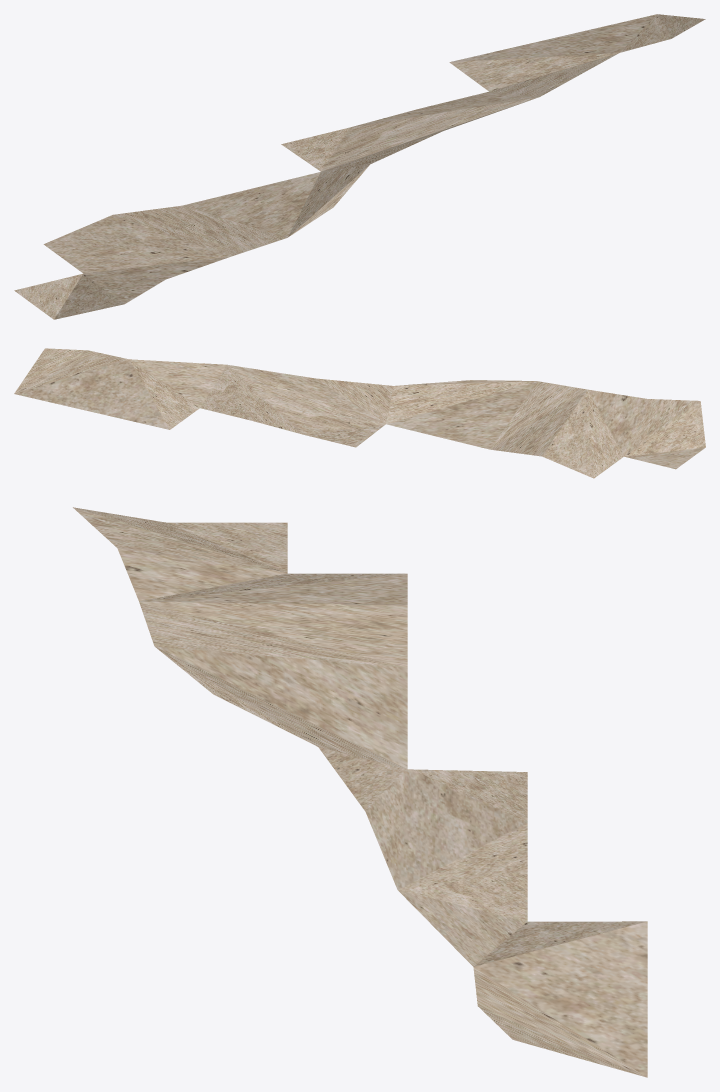
File: lodseabed020.obj
3 renders of one model, top to bottom at view 1: azimuth 30°, elevation 25°; view 2: azimuth 150°, elevation 25°; view 3: azimuth 270°, elevation 25°, orthographic. The views are drawn at different scales.
Parts seen in each view (by area): view 1: lodseabed020; view 2: lodseabed020; view 3: lodseabed020.
Part boxes in pixels (<box>): lodseabed020: <box>14,14,705,319</box>; lodseabed020: <box>14,348,705,478</box>; lodseabed020: <box>73,507,647,1077</box>.
Size of the model in its own units: 273 by 9.98 by 118.
